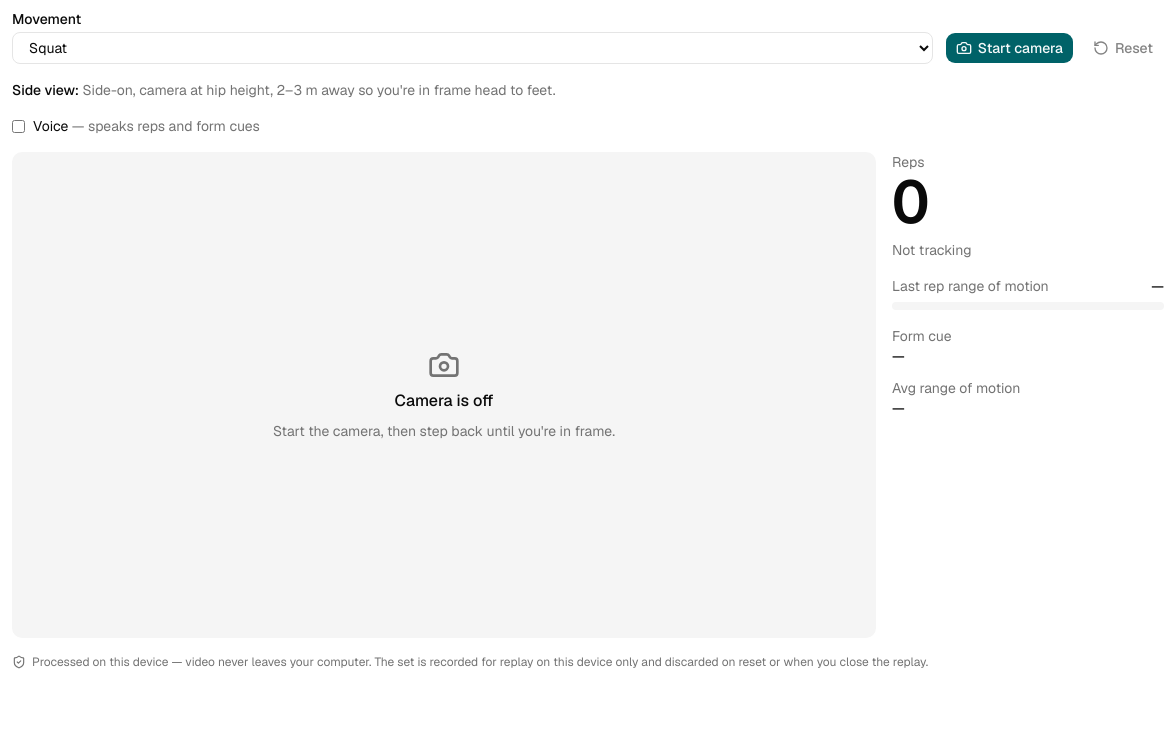
Test: RepCounterPanel › reports a denied camera permission
The width and height of the screenshot is (1176, 732).
Click the button "Start camera" at x=1009, y=48, box [945,32,1074,64]
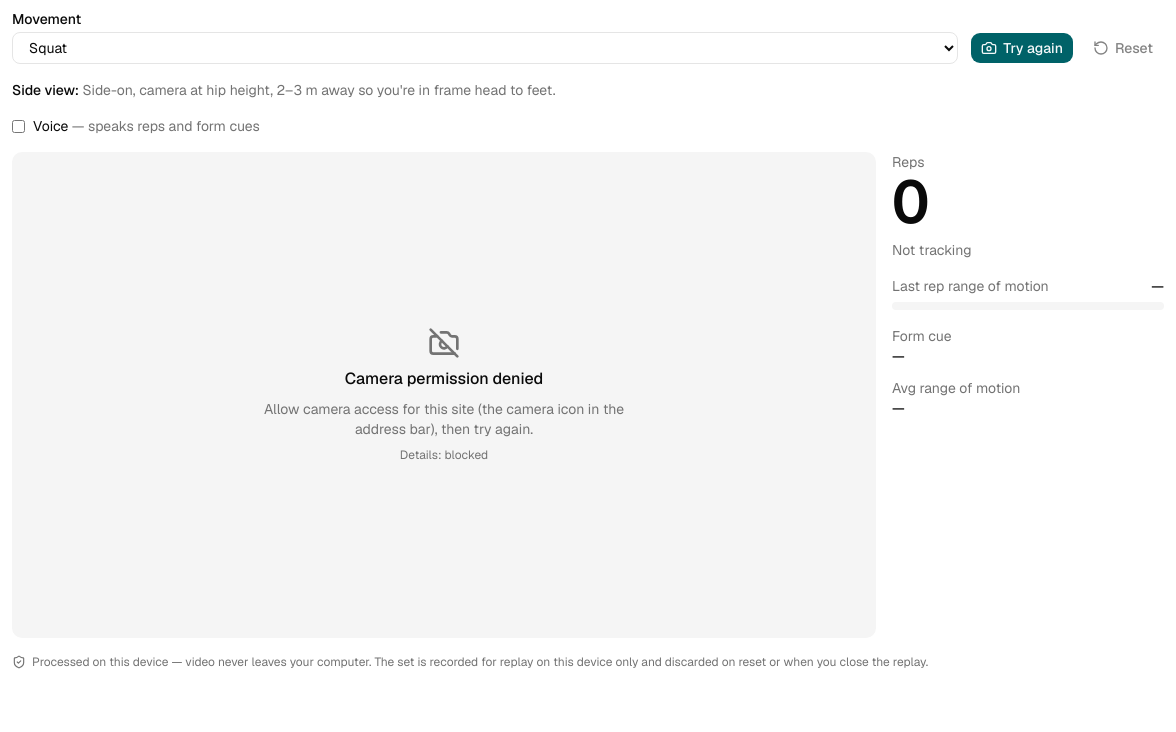
Expected: the button "Try again" is enabled, [970,32,1074,64]
Expected: the text "Camera permission denied" is shown, [345,367,543,391]
